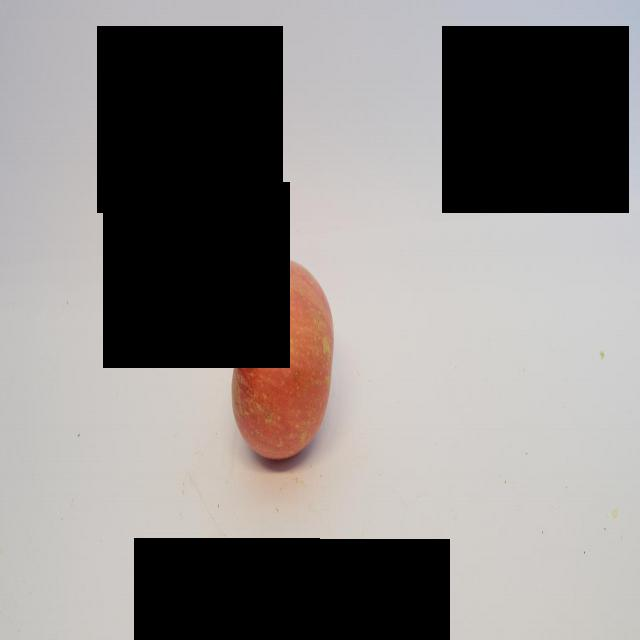apple: (232, 244, 336, 478)
